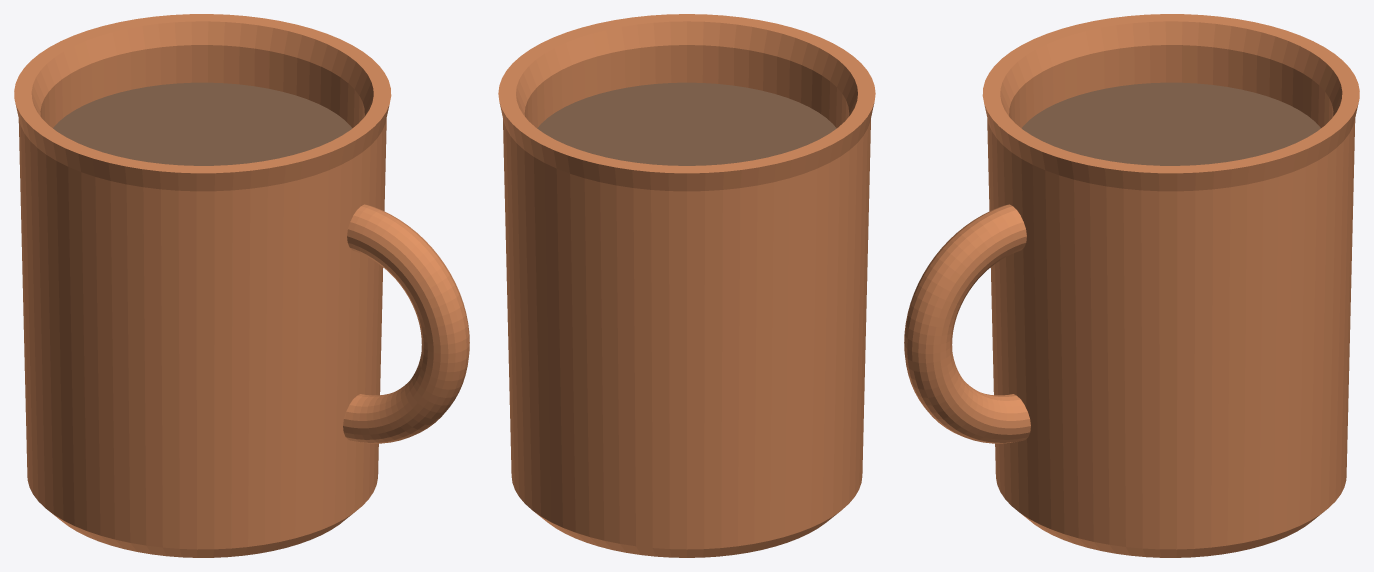
Rendered from taza.glb.
3 renders of one model, left to right at view 1: azimuth 30°, elevation 25°; view 2: azimuth 150°, elevation 25°; view 3: azimuth 270°, elevation 25°, orthographic.
Parts seen in each view (by area): view 1: cuerpo, cafe, asa; view 2: cuerpo, cafe; view 3: cuerpo, cafe, asa.
Part boxes in pixels (bbox=[...]): cuerpo: bbox=[14, 14, 391, 557]; cafe: bbox=[53, 82, 352, 165]; asa: bbox=[343, 204, 469, 443]; cuerpo: bbox=[498, 14, 875, 557]; cafe: bbox=[537, 82, 836, 165]; cuerpo: bbox=[982, 14, 1359, 557]; cafe: bbox=[1021, 82, 1320, 165]; asa: bbox=[904, 204, 1030, 443].
Size of the model in its own units: 0.8595 by 1 by 1.04.
